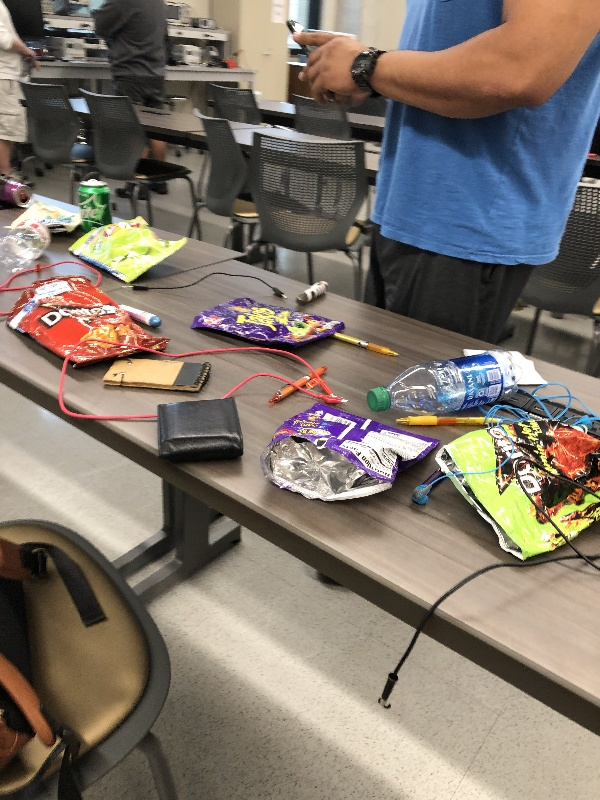bag: (427, 413, 600, 570), (260, 399, 439, 513), (5, 274, 179, 368), (61, 214, 191, 285), (190, 295, 348, 349), (2, 199, 84, 238)
bottle: (362, 345, 525, 416), (1, 214, 57, 283)
can: (67, 176, 114, 237), (6, 172, 38, 213)
